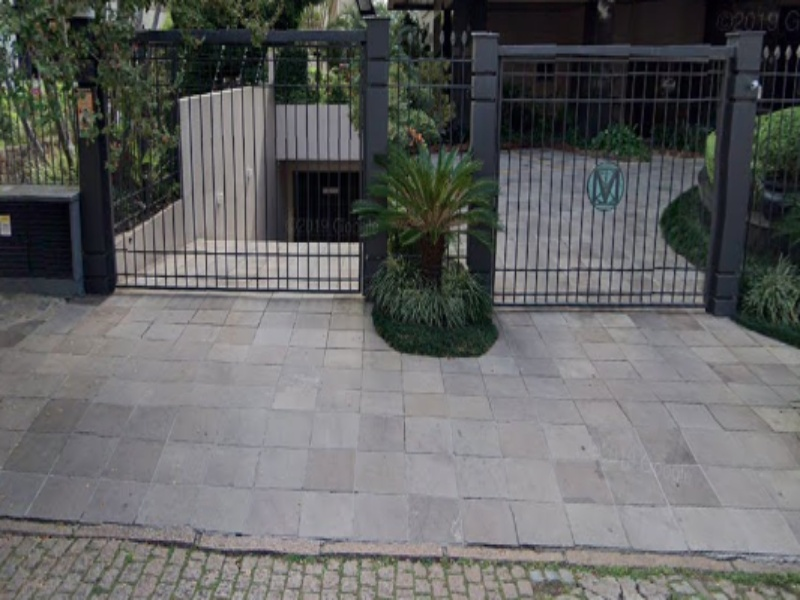g33: (15, 433, 386, 576)
g34: (481, 493, 800, 600)
